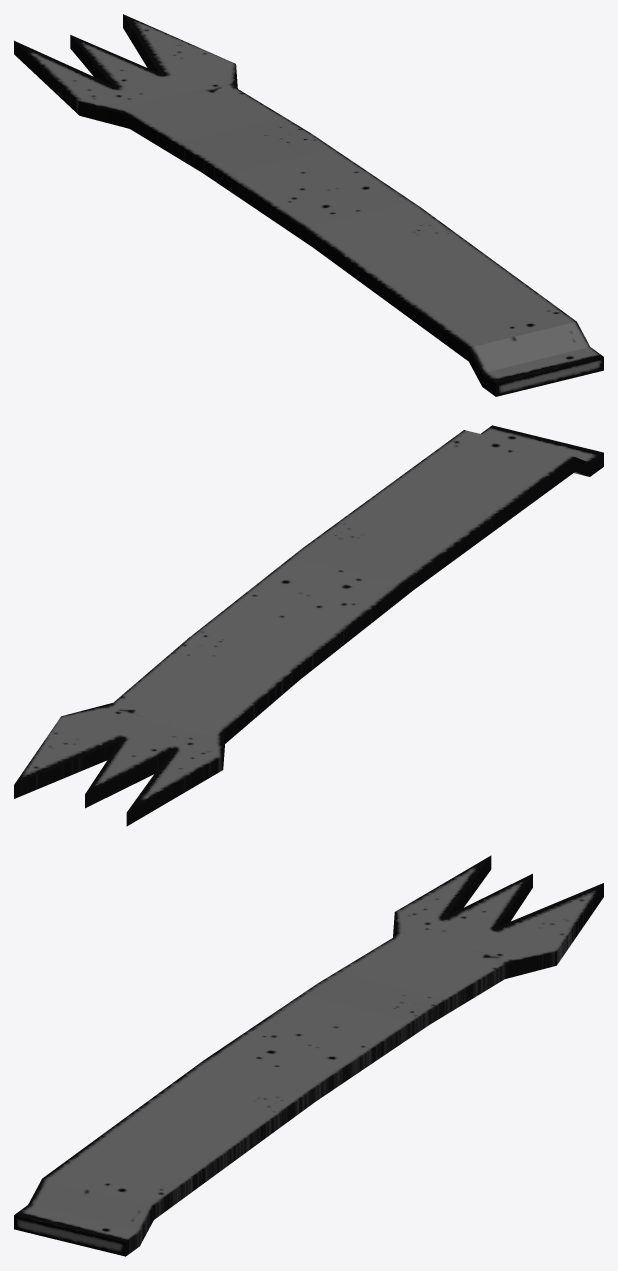
File: Fork.obj
3 renders of one model, top to bottom at view 1: azimuth 30°, elevation 25°; view 2: azimuth 150°, elevation 25°; view 3: azimuth 330°, elevation 25°, orthographic. The views are drawn at different scales.
Parts seen in each view (by area): view 1: Tenedor; view 2: Tenedor; view 3: Tenedor.
Part boxes in pixels (left/top/right/bottom): Tenedor: left=14, top=14, right=603, bottom=396; Tenedor: left=14, top=425, right=603, bottom=826; Tenedor: left=14, top=855, right=603, bottom=1256.
Bounding box in the file's own units: 0.9114 × 0.162 × 4.76.
